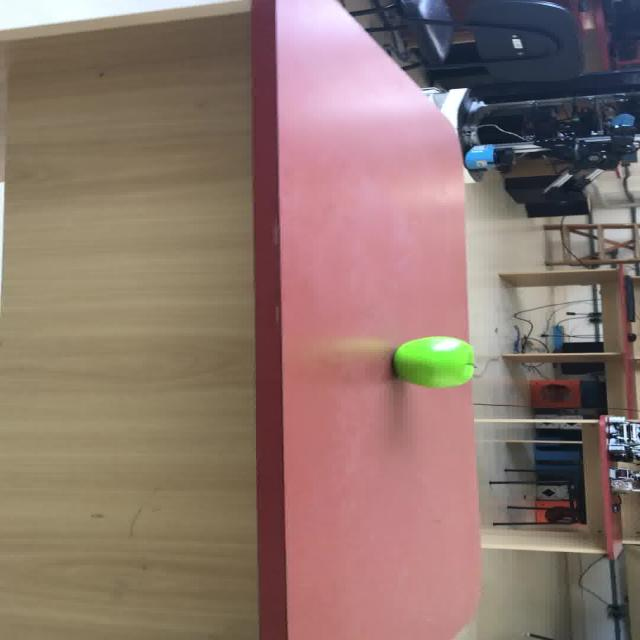apple: (391, 335, 474, 388)
